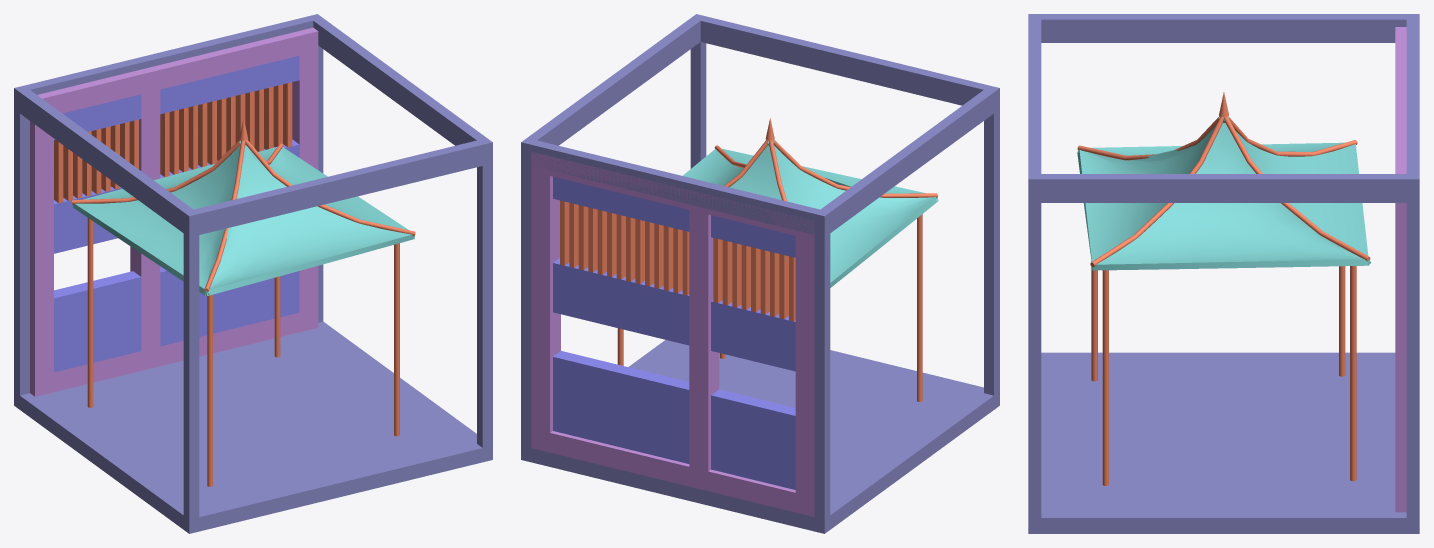
The picture shows the model from 3 angles, left to right: view 1: azimuth 30°, elevation 25°; view 2: azimuth 150°, elevation 25°; view 3: azimuth 270°, elevation 25°; orthographic projection. The views are drawn at different scales.
Visible parts, largest first — view 1: 物件_48, 物件_41, 物件_55, 物件_42, 物件_29, 物件_33, 物件_32, 物件_53, 物件_28, 物件_34, 物件_51, 物件_56 (+30 smaller); view 2: 物件_48, 物件_28, 物件_54, 物件_55, 物件_27, 物件_29, 物件_31, 物件_34, 物件_42, 物件_30, 物件_53, 物件_52 (+35 smaller); view 3: 物件_48, 物件_40, 物件_56, 物件_53, 物件_41, 物件_50, 物件_49, 物件_43, 物件_31, 物件_54, 物件_55, 物件_33 (+9 smaller).
Boxes of the visible parts, <box> form: 物件_48: <box>14,321,492,533</box>; 物件_41: <box>203,145,414,295</box>; 物件_55: <box>184,138,492,236</box>; 物件_42: <box>73,145,244,295</box>; 物件_29: <box>54,271,141,372</box>; 物件_33: <box>37,27,318,113</box>; 物件_32: <box>30,121,53,376</box>; 物件_53: <box>14,86,199,236</box>; 物件_28: <box>160,266,299,346</box>; 物件_34: <box>30,308,318,396</box>; 物件_51: <box>183,209,199,519</box>; 物件_56: <box>312,16,492,165</box>; 物件_48: <box>521,340,999,533</box>; 物件_28: <box>553,351,689,463</box>; 物件_54: <box>521,138,829,236</box>; 物件_55: <box>692,14,999,105</box>; 物件_27: <box>553,258,689,345</box>; 物件_29: <box>711,389,795,489</box>; 物件_31: <box>531,171,560,432</box>; 物件_34: <box>531,428,814,516</box>; 物件_42: <box>765,140,938,287</box>; 物件_30: <box>689,210,719,471</box>; 物件_53: <box>814,86,999,236</box>; 物件_52: <box>814,209,830,519</box>; 物件_48: <box>1028,352,1419,533</box>; 物件_40: <box>1092,123,1370,270</box>; 物件_56: <box>1028,174,1419,202</box>; 物件_53: <box>1028,14,1419,42</box>; 物件_41: <box>1077,116,1229,270</box>; 物件_50: <box>1406,174,1419,517</box>; 物件_49: <box>1028,174,1041,517</box>; 物件_43: <box>1218,117,1368,255</box>; 物件_31: <box>1395,203,1406,490</box>; 物件_54: <box>1406,15,1419,202</box>; 物件_55: <box>1028,14,1041,202</box>; 物件_33: <box>1395,27,1406,203</box>.
Size of the model in its own units: 48 by 48 by 48.
